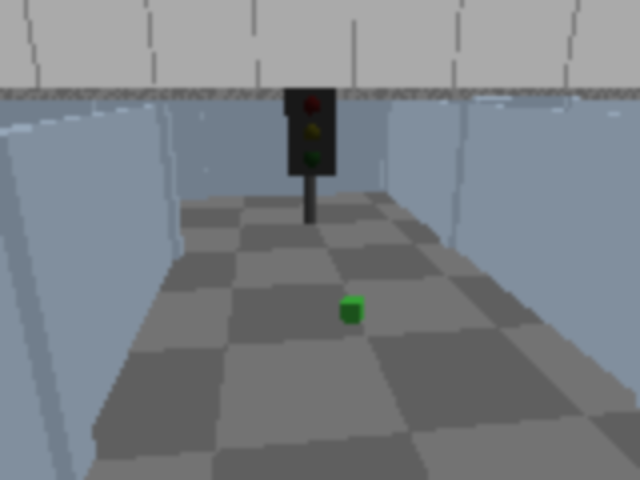puck: (339, 294, 366, 325)
